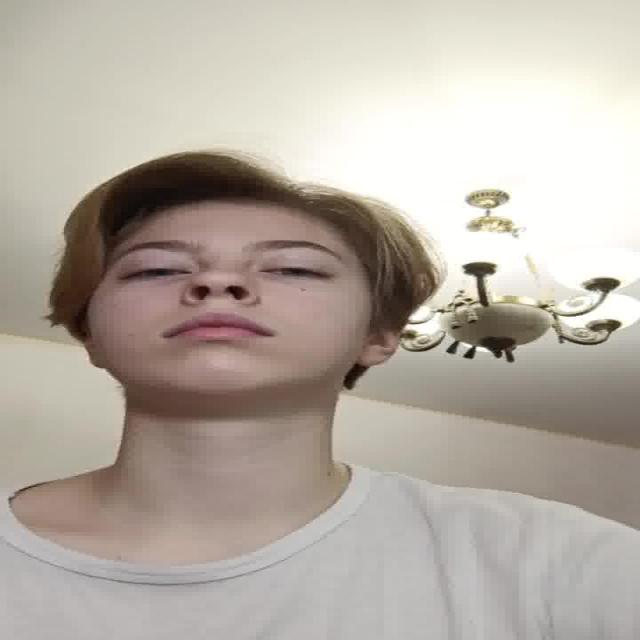earlobe: (354, 345, 390, 368)
eye: (257, 262, 335, 284), (118, 264, 190, 282)
nose: (179, 293, 258, 318)
wholeear: (354, 309, 404, 368)
